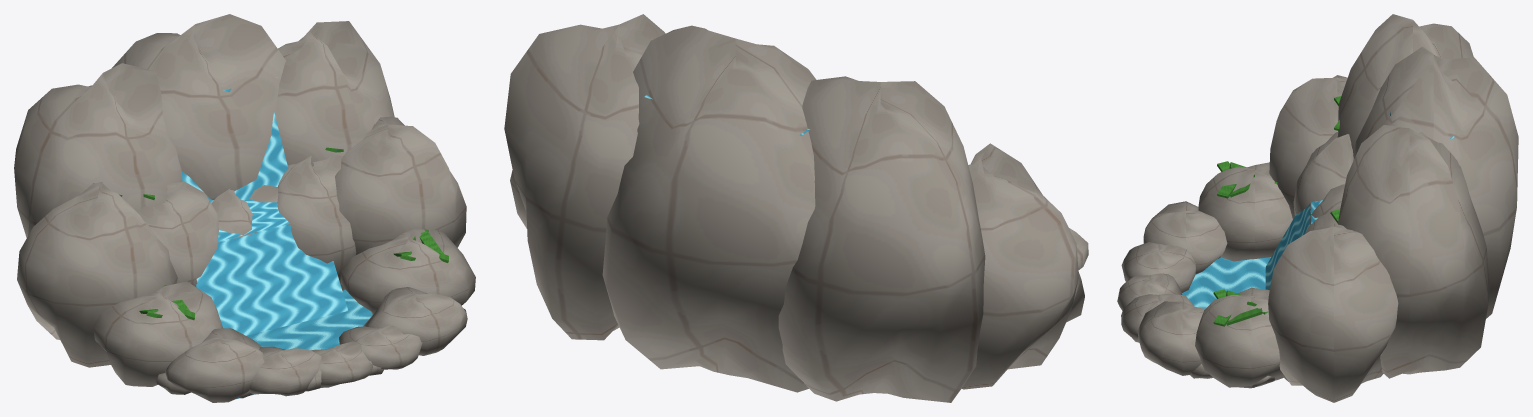
The model's file is air_terjun_batu.glb.
The picture shows the model from 3 angles, left to right: view 1: azimuth 30°, elevation 25°; view 2: azimuth 150°, elevation 25°; view 3: azimuth 270°, elevation 25°; orthographic projection. The views are drawn at different scales.
Visible parts, largest first — view 1: Air_Terjun_Batu; view 2: Air_Terjun_Batu; view 3: Air_Terjun_Batu.
Part boxes in pixels (x1,y1,x2,y2): Air_Terjun_Batu: (14,14,475,402); Air_Terjun_Batu: (504,14,1088,402); Air_Terjun_Batu: (1117,14,1518,402).
Bounding box in the file's own units: 7.4 × 4.15 × 5.84.
1 material, 1 textured.
